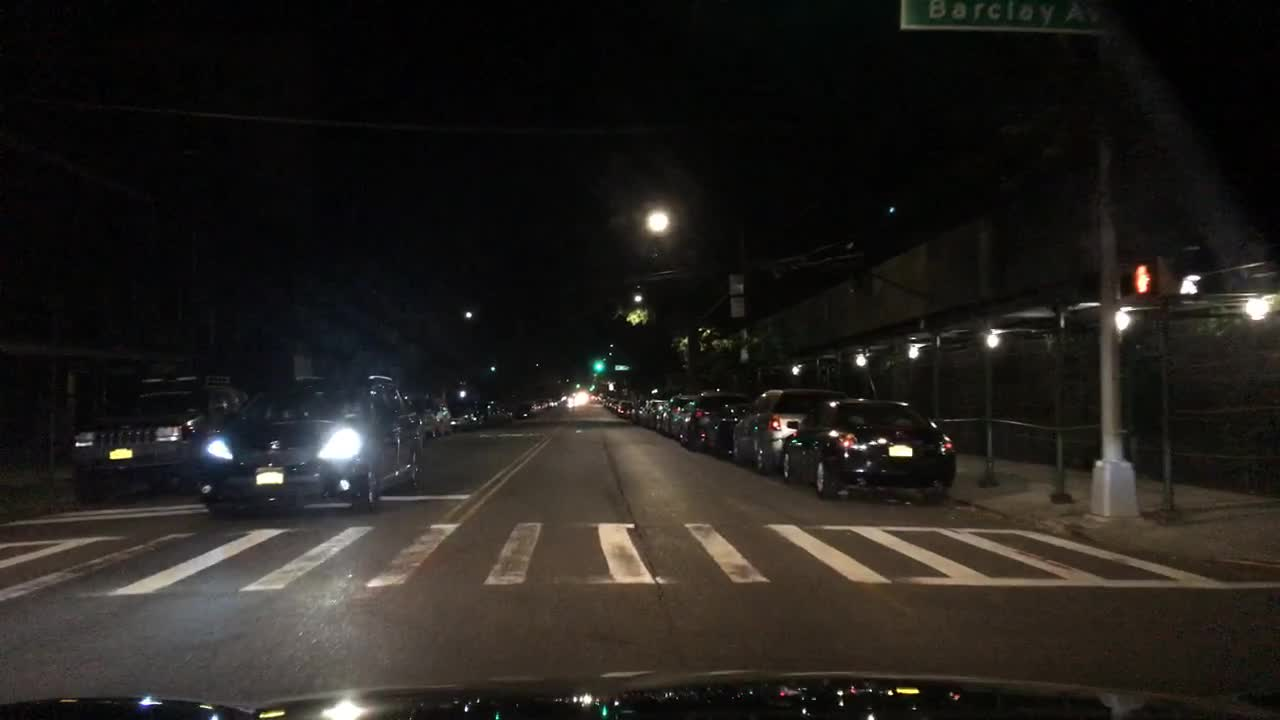car: (193, 368, 424, 515), (68, 370, 255, 500), (774, 394, 959, 508), (726, 383, 853, 478), (666, 386, 750, 452), (688, 394, 754, 460), (411, 394, 459, 441), (655, 392, 697, 441), (446, 397, 488, 432), (482, 396, 519, 423), (642, 397, 671, 430), (631, 397, 660, 427), (514, 397, 541, 421), (620, 397, 640, 419), (532, 399, 556, 416), (563, 392, 592, 405), (543, 394, 563, 412), (605, 397, 624, 415), (587, 391, 607, 406), (552, 390, 570, 405)
traffic light: (1132, 258, 1172, 298), (591, 356, 607, 378)
traffic sign: (895, 0, 1115, 36), (726, 268, 747, 297), (726, 293, 747, 320), (611, 361, 631, 372)
